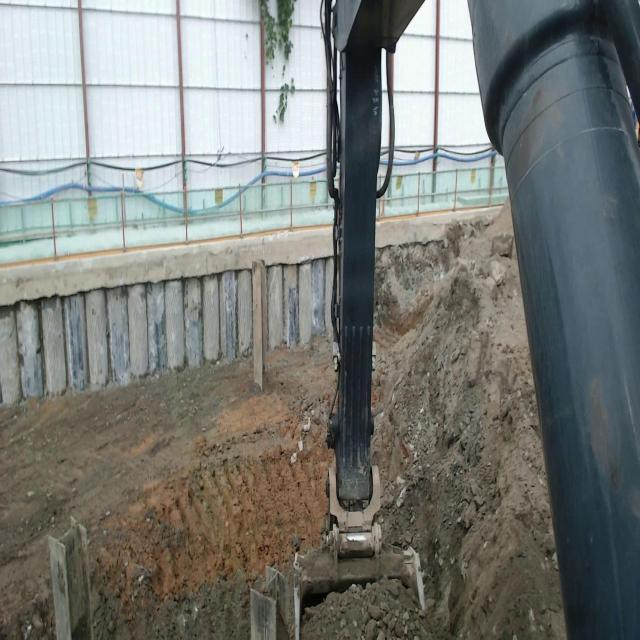white-sand: (303, 207, 565, 639), (0, 340, 334, 639)
